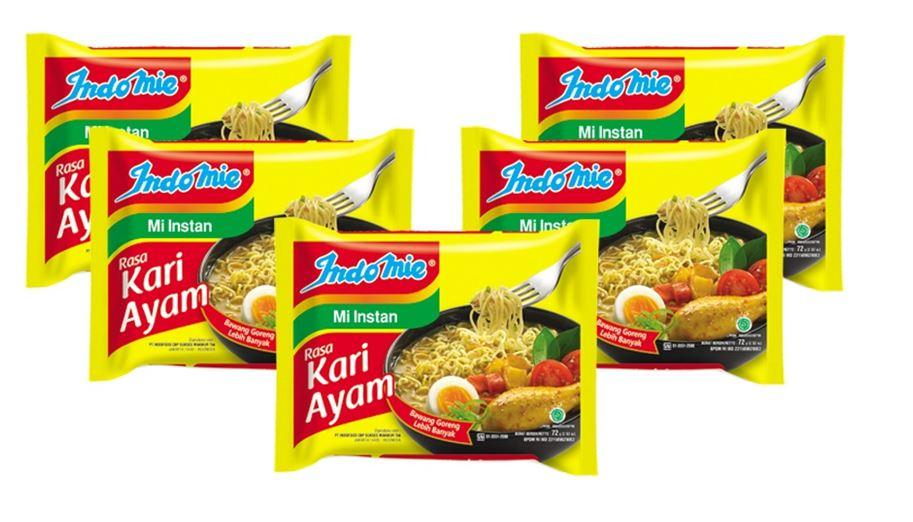indomie kari ayam: (448, 120, 798, 416), (507, 17, 865, 297), (261, 204, 622, 481), (10, 18, 358, 298), (82, 115, 428, 387)
